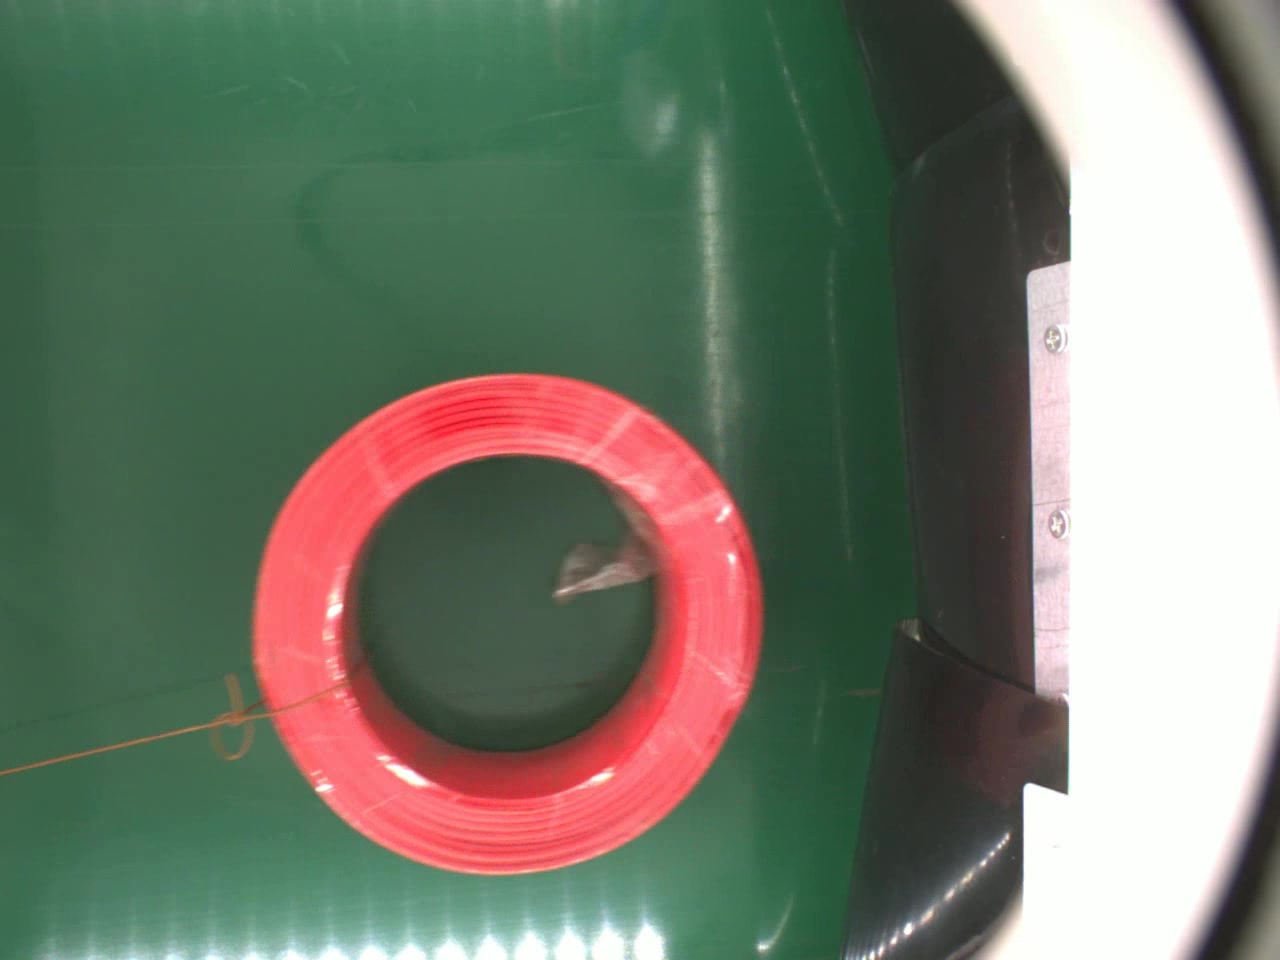red: (250, 364, 768, 871)
